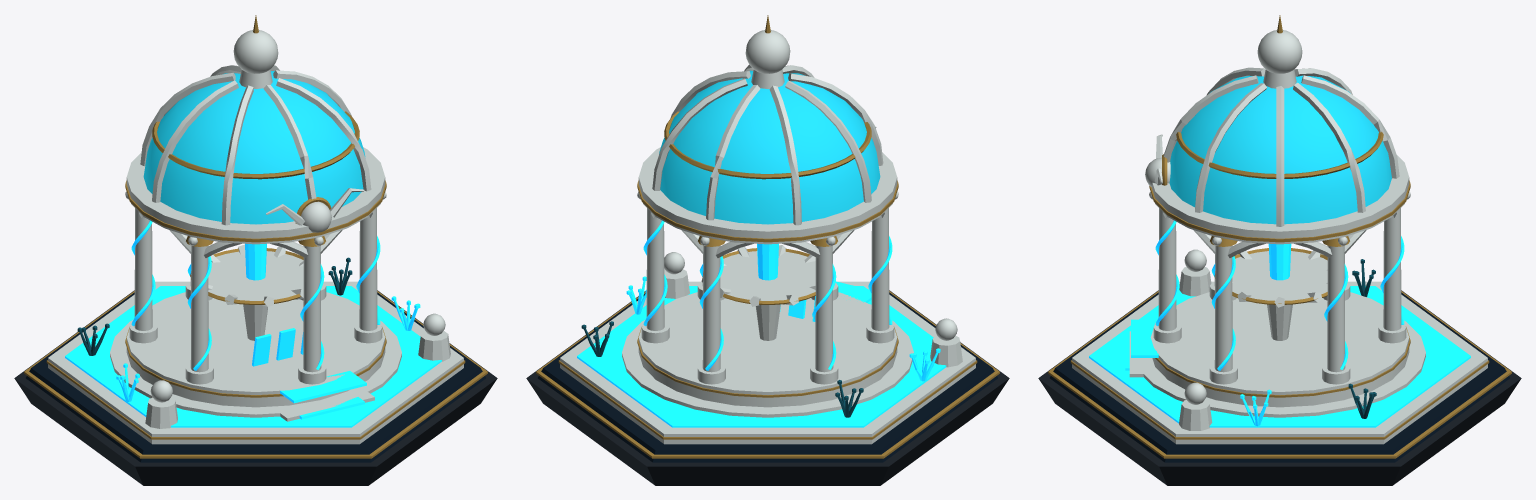
The model's file is poseidon_structure_ambrosial_spring.glb.
3 renders of one model, left to right at view 1: azimuth 30°, elevation 25°; view 2: azimuth 150°, elevation 25°; view 3: azimuth 270°, elevation 25°, orthographic.
Visible parts, largest first — view 1: poseidon_structure_ambrosial_spring; view 2: poseidon_structure_ambrosial_spring; view 3: poseidon_structure_ambrosial_spring.
Boxes of the visible parts, box(x1,y1,x2,y2) form: poseidon_structure_ambrosial_spring: box(14, 15, 497, 485); poseidon_structure_ambrosial_spring: box(526, 15, 1009, 485); poseidon_structure_ambrosial_spring: box(1038, 15, 1521, 485).
Size of the model in its own units: 1.49 by 1.53 by 1.72.
1 material, 1 textured.
